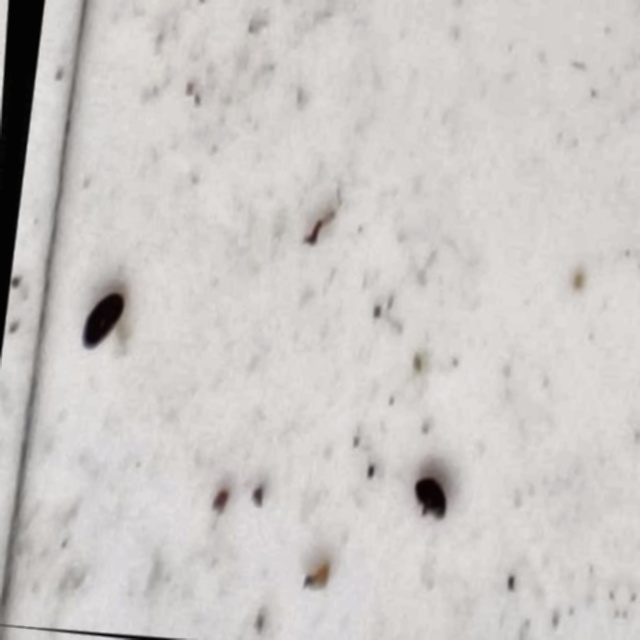varroa: (79, 287, 126, 352), (410, 475, 452, 523)
